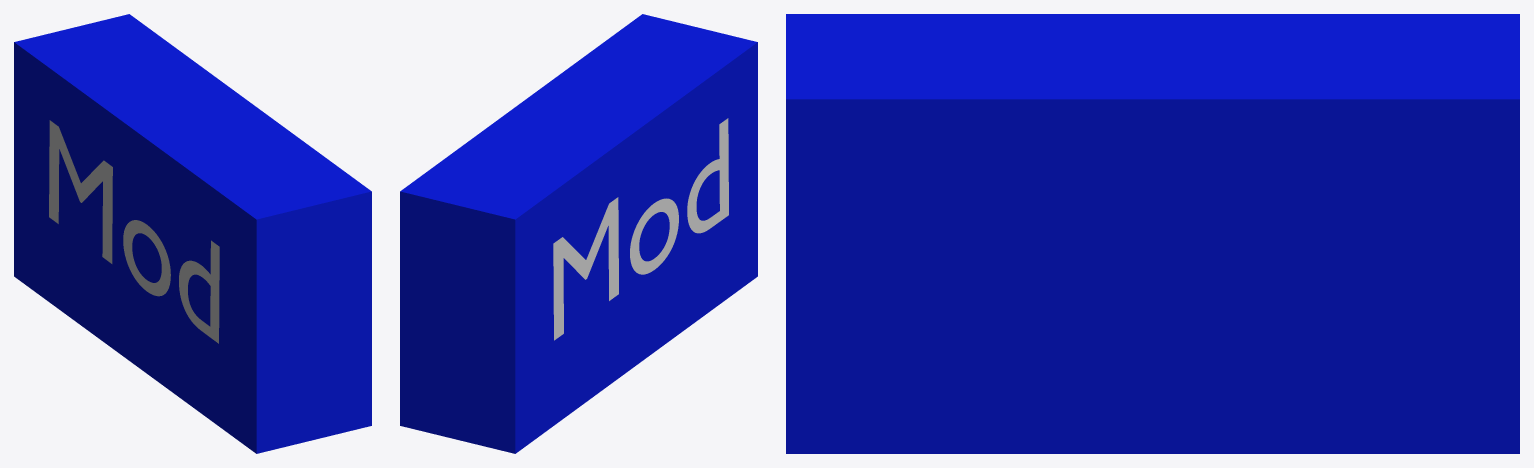
The model's file is mod.fbx.
The picture shows the model from 3 angles, left to right: view 1: azimuth 30°, elevation 25°; view 2: azimuth 150°, elevation 25°; view 3: azimuth 270°, elevation 25°; orthographic projection. The views are drawn at different scales.
Parts seen in each view (by area): view 1: Cube, Text; view 2: Cube, Text; view 3: Cube.
Part boxes in pixels (<box>): Cube: <box>14,14,371,453</box>; Text: <box>49,120,219,343</box>; Cube: <box>400,14,757,453</box>; Text: <box>553,118,728,340</box>; Cube: <box>786,14,1519,453</box>.
Size of the model in its own units: 36.09 by 67.55 by 127.
